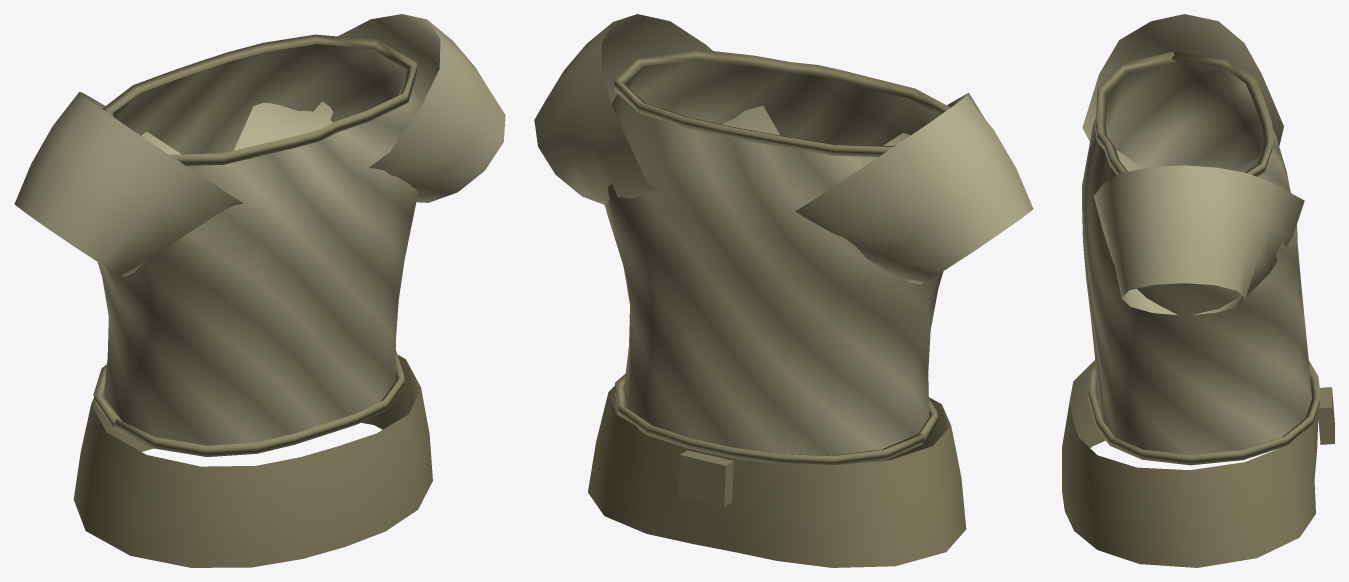
The model's file is tin_chainmail.glb.
3 views of the same model, side by side, from view 1: azimuth 30°, elevation 25°; view 2: azimuth 150°, elevation 25°; view 3: azimuth 270°, elevation 25° (orthographic). The views are drawn at different scales.
Parts seen in each view (by area): view 1: tin_chainmail_chest; view 2: tin_chainmail_chest; view 3: tin_chainmail_chest.
Part boxes in pixels (<box>): tin_chainmail_chest: <box>14,14,505,567</box>; tin_chainmail_chest: <box>534,14,1033,567</box>; tin_chainmail_chest: <box>1062,14,1334,567</box>.
Size of the model in its own units: 0.6233 by 0.5645 by 0.3387.
